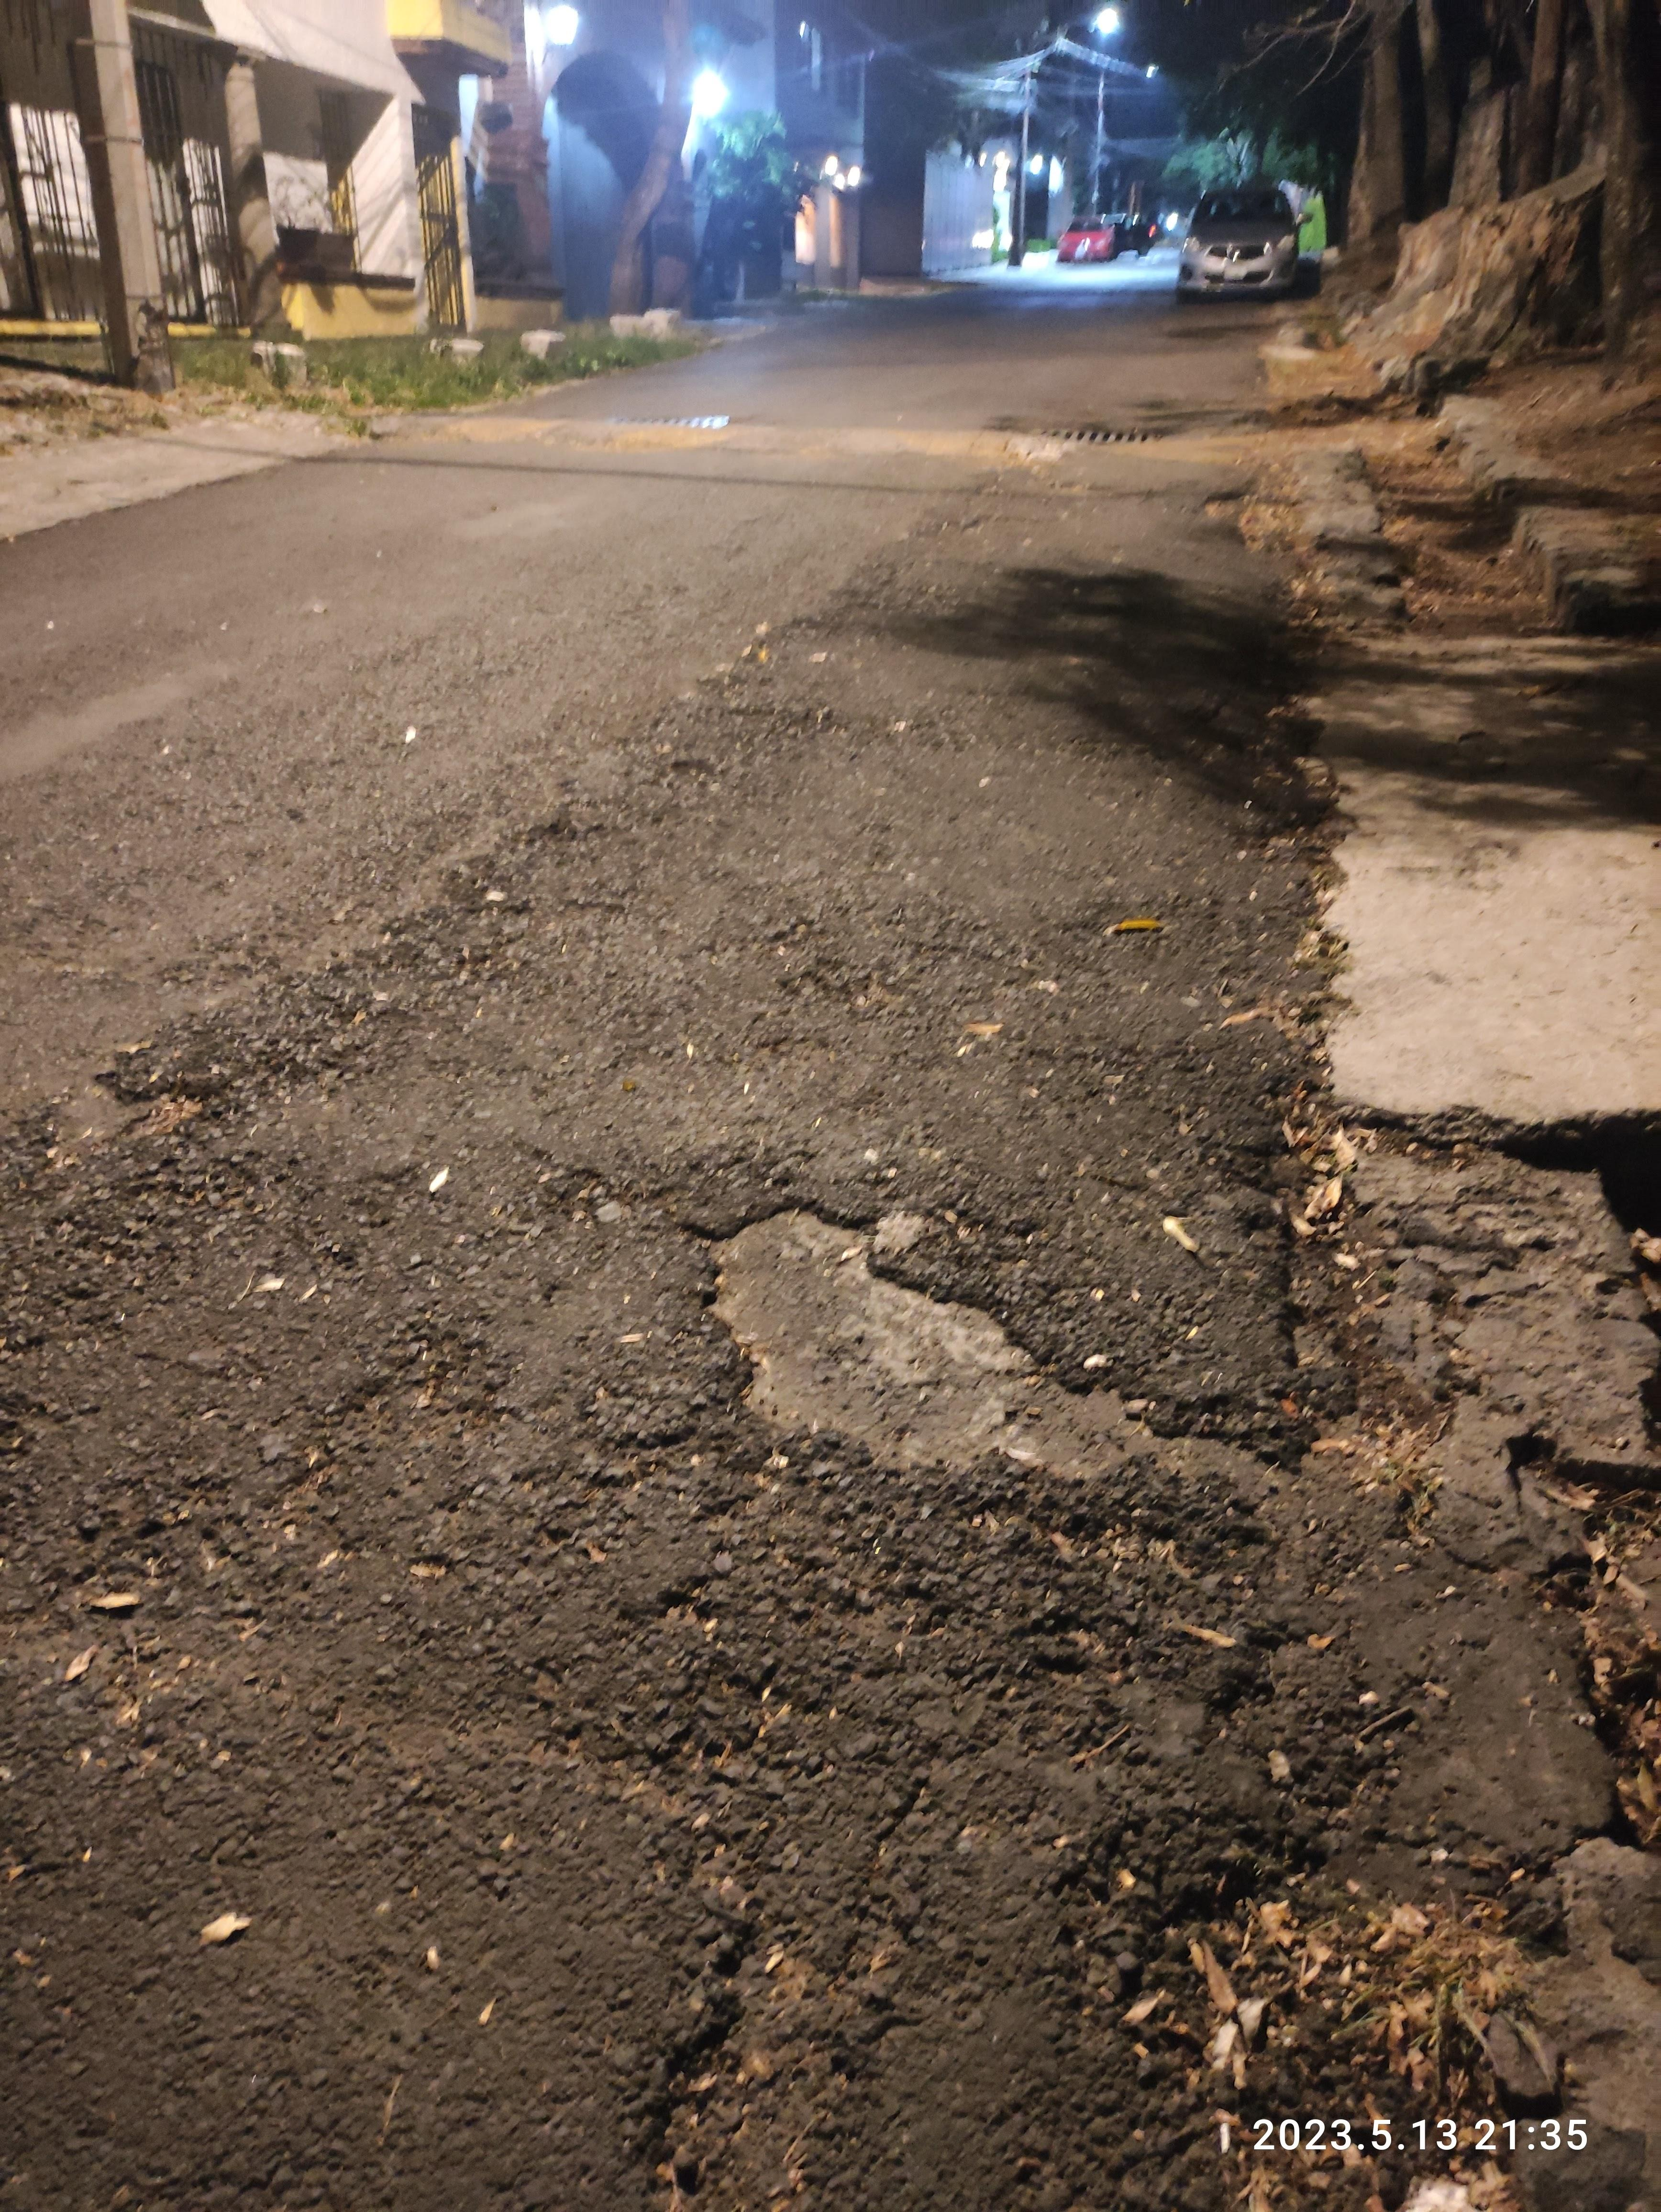pothole: (9, 1057, 607, 1628), (677, 1172, 1289, 1526), (611, 1526, 1202, 1874), (586, 1908, 921, 2203)
